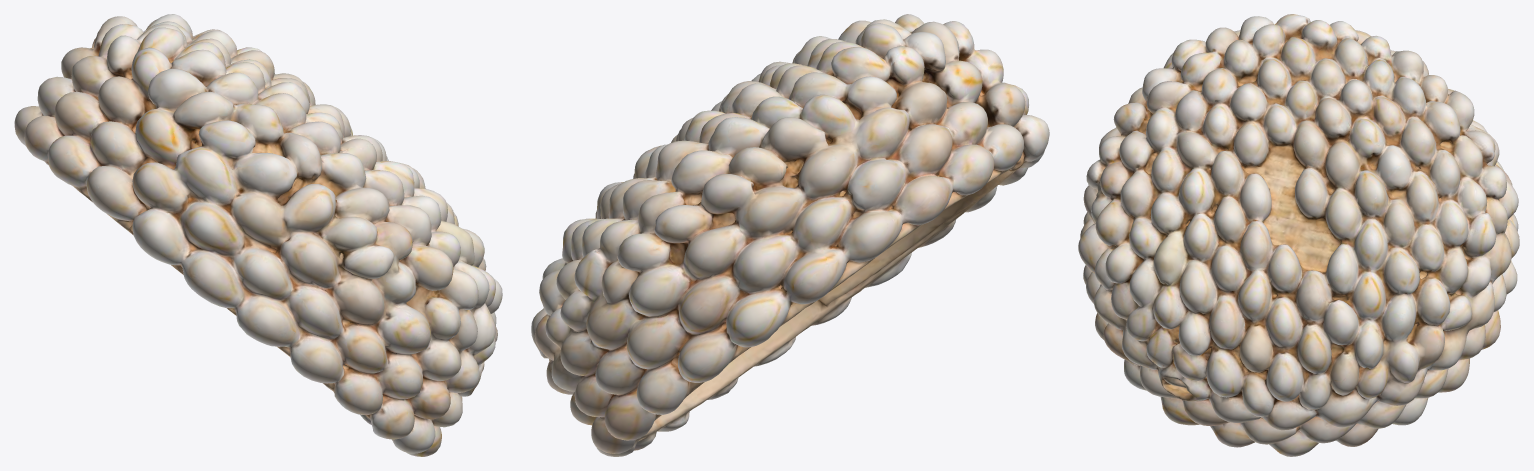
File: preview.glb
The picture shows the model from 3 angles, left to right: view 1: azimuth 30°, elevation 25°; view 2: azimuth 150°, elevation 25°; view 3: azimuth 270°, elevation 25°; orthographic projection. The views are drawn at different scales.
Size of the model in its own units: 0.1411 by 0.1434 by 0.163.
Materials: 1 (1 with a texture image).
